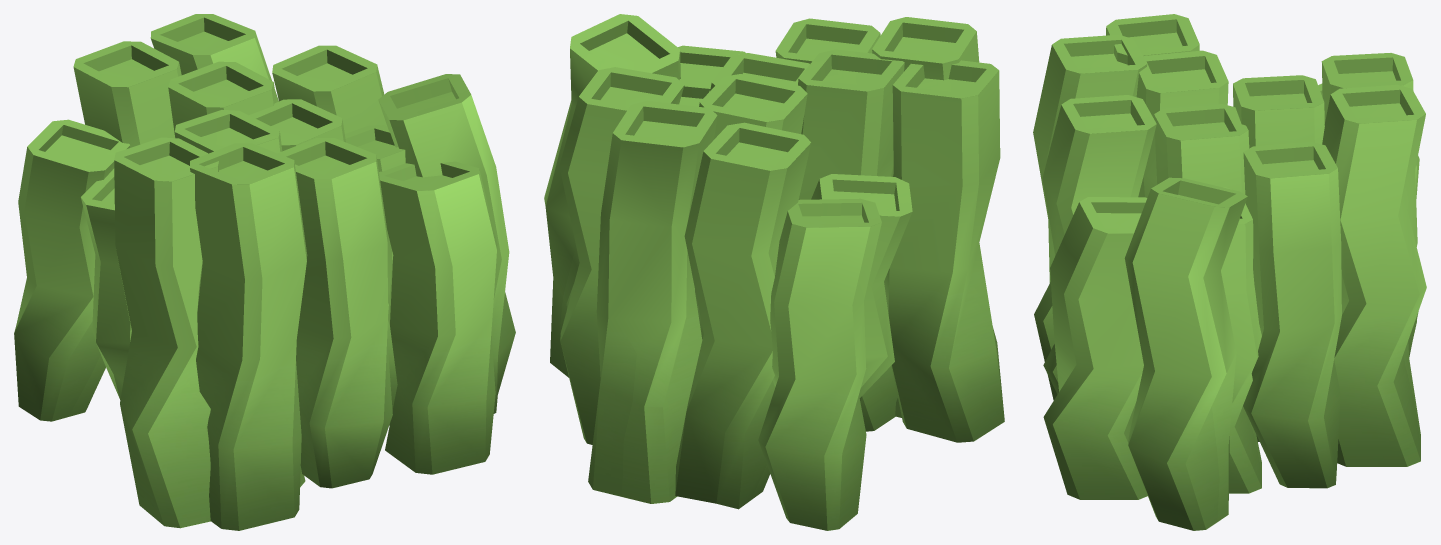
Rendered from AnemoneYellow.fbx.
3 renders of one model, left to right at view 1: azimuth 30°, elevation 25°; view 2: azimuth 150°, elevation 25°; view 3: azimuth 270°, elevation 25°, orthographic. The views are drawn at different scales.
Parts seen in each view (by area): view 1: Green1, Green5, Green3, Green4, Green8, Green14, Green6, Green2, Green7, Green12, Green9, Green13 (+2 smaller); view 2: Green12, Green3, Green6, Green8, Green2, Green13, Green14, Green7, Green9, Green1, Green4, Green11 (+2 smaller); view 3: Green14, Green12, Green2, Green5, Green4, Green1, Green10, Green11, Green9, Green13, Green6, Green3.
Boxes of the visible parts, left/top/right/bottom form: Green1: left=190, top=143, right=307, bottom=530; Green5: left=379, top=161, right=497, bottom=474; Green3: left=114, top=137, right=218, bottom=528; Green4: left=278, top=138, right=392, bottom=488; Green8: left=14, top=119, right=130, bottom=421; Green14: left=378, top=74, right=515, bottom=413; Green6: left=73, top=41, right=181, bottom=147; Green2: left=272, top=45, right=386, bottom=133; Green7: left=81, top=168, right=130, bottom=399; Green12: left=150, top=14, right=278, bottom=102; Green9: left=168, top=61, right=276, bottom=136; Green13: left=175, top=110, right=305, bottom=487; Green12: left=588, top=100, right=717, bottom=503; Green3: left=884, top=60, right=1004, bottom=442; Green6: left=675, top=122, right=811, bottom=509; Green8: left=758, top=198, right=881, bottom=530; Green2: left=559, top=67, right=684, bottom=444; Green13: left=798, top=49, right=904, bottom=431; Green14: left=544, top=14, right=680, bottom=377; Green7: left=811, top=174, right=912, bottom=401; Green9: left=695, top=74, right=807, bottom=339; Green1: left=872, top=17, right=979, bottom=417; Green4: left=775, top=18, right=880, bottom=63; Green11: left=710, top=53, right=809, bottom=90; Green14: left=1124, top=177, right=1247, bottom=530; Green12: left=1322, top=84, right=1426, bottom=466; Green2: left=1243, top=141, right=1341, bottom=488; Green5: left=1043, top=197, right=1147, bottom=499; Green4: left=1042, top=95, right=1156, bottom=394; Green1: left=1033, top=34, right=1147, bottom=400; Green10: left=1221, top=187, right=1261, bottom=493; Green11: left=1154, top=104, right=1249, bottom=194; Green9: left=1233, top=75, right=1324, bottom=441; Green13: left=1136, top=50, right=1228, bottom=197; Green6: left=1321, top=53, right=1417, bottom=356; Green3: left=1106, top=14, right=1199, bottom=64.
Bounding box in the file's own units: 0.8825 × 0.7342 × 0.7744.
